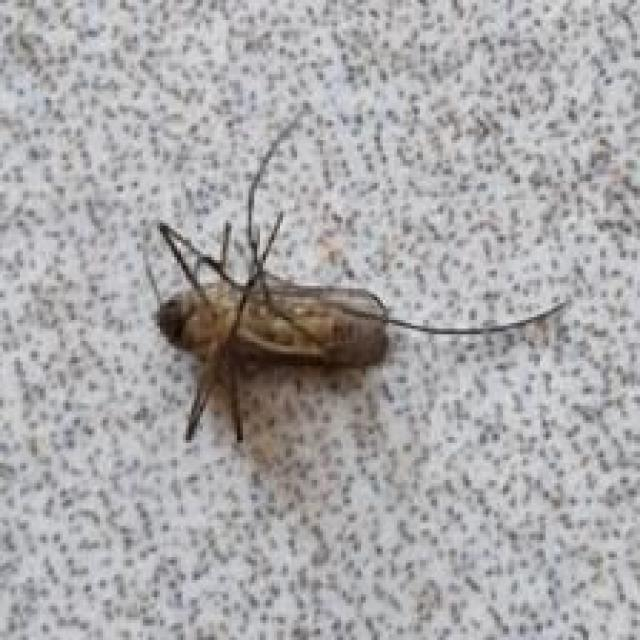Culex: (141, 103, 570, 446)
